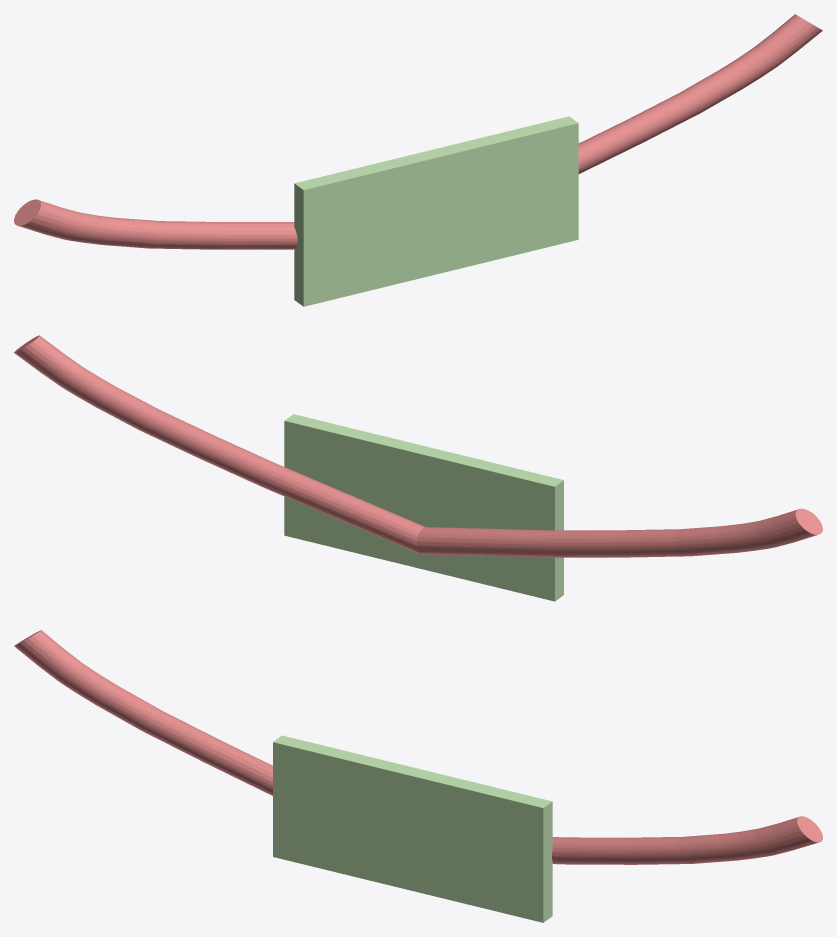
File: Do Not Enter Sign.fbx
3 renders of one model, top to bottom at view 1: azimuth 30°, elevation 25°; view 2: azimuth 150°, elevation 25°; view 3: azimuth 330°, elevation 25°, orthographic.
Parts seen in each view (by area): view 1: Do_Not_Enter_Sign; view 2: Do_Not_Enter_Sign; view 3: Do_Not_Enter_Sign.
Part boxes in pixels (box(x1,y1,x2,y2)): Do_Not_Enter_Sign: box(14, 14, 822, 306); Do_Not_Enter_Sign: box(14, 335, 822, 601); Do_Not_Enter_Sign: box(14, 630, 822, 922).
Bounding box in the file's own units: 8.63 × 1.6 × 0.5043.
